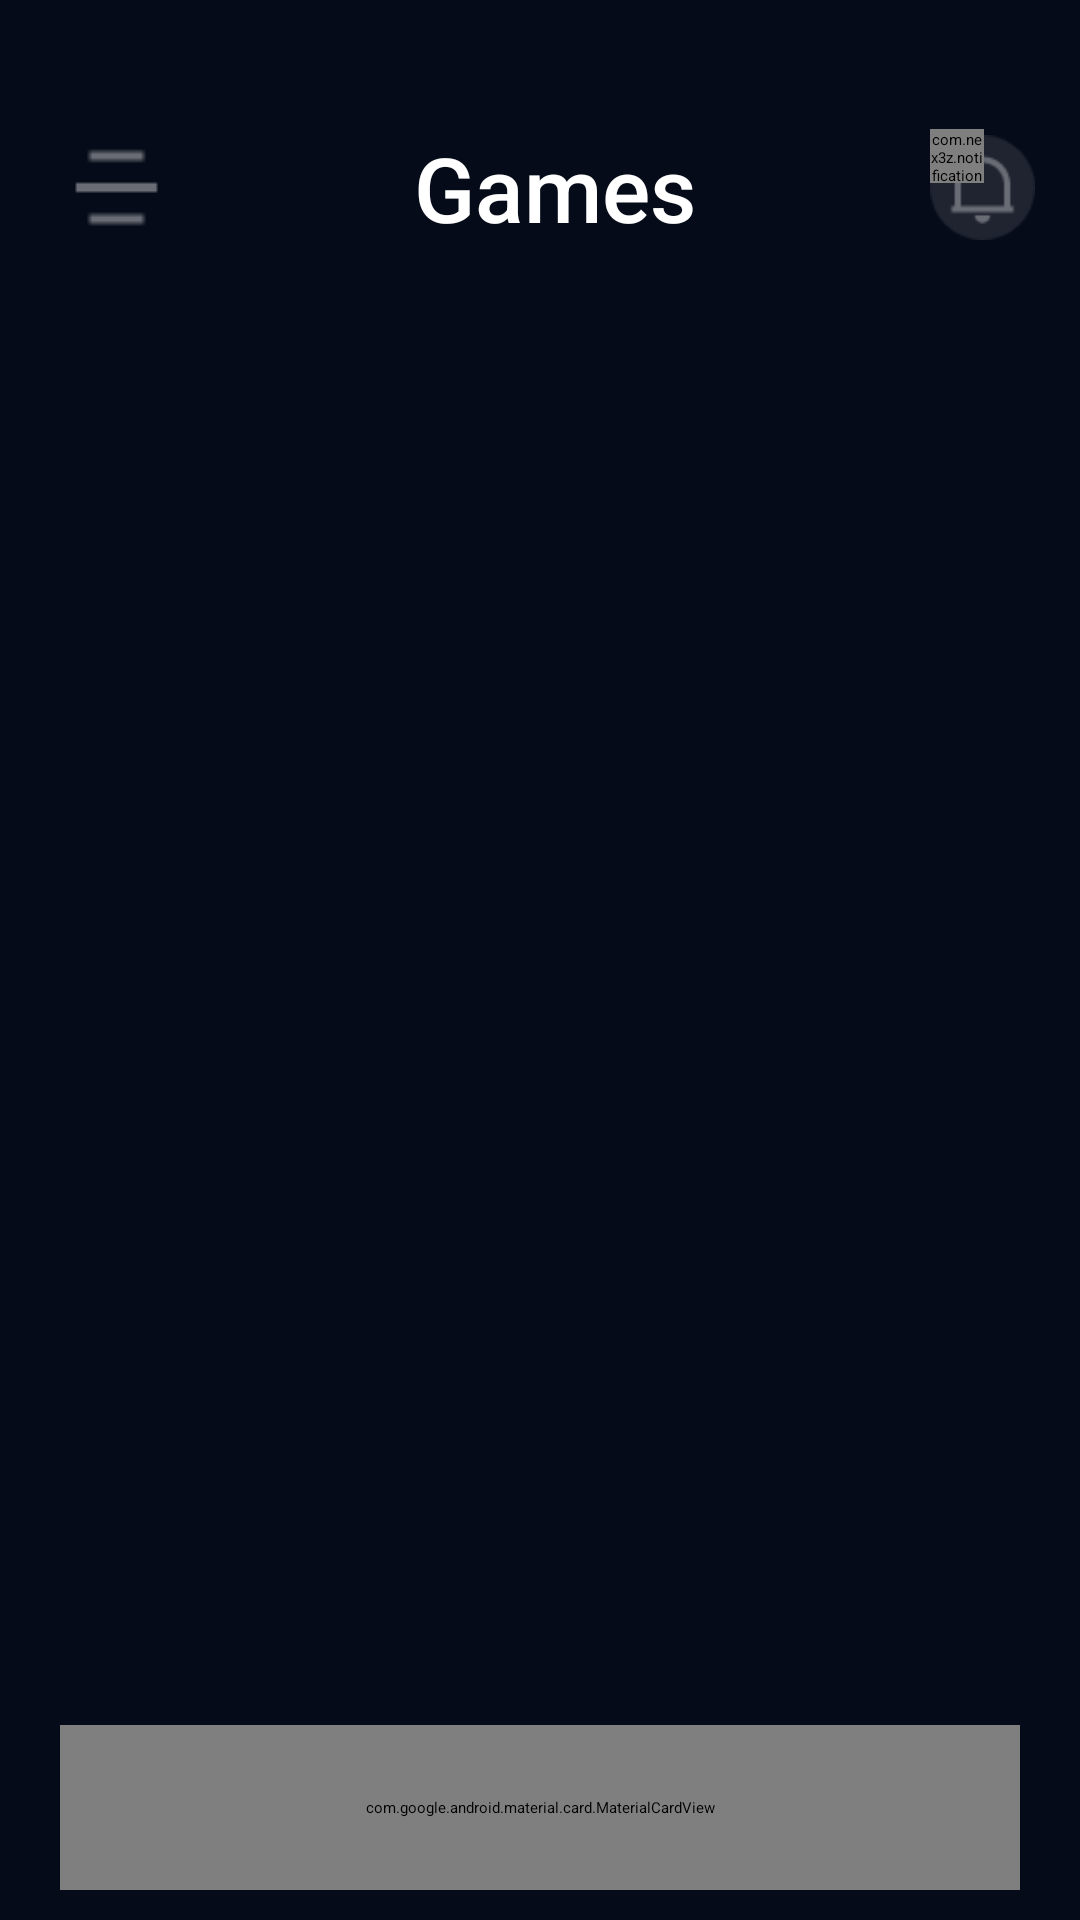

Named icons in this screenshot (1080*1920) and their centers, [x,y]:
menu: [116,187]
